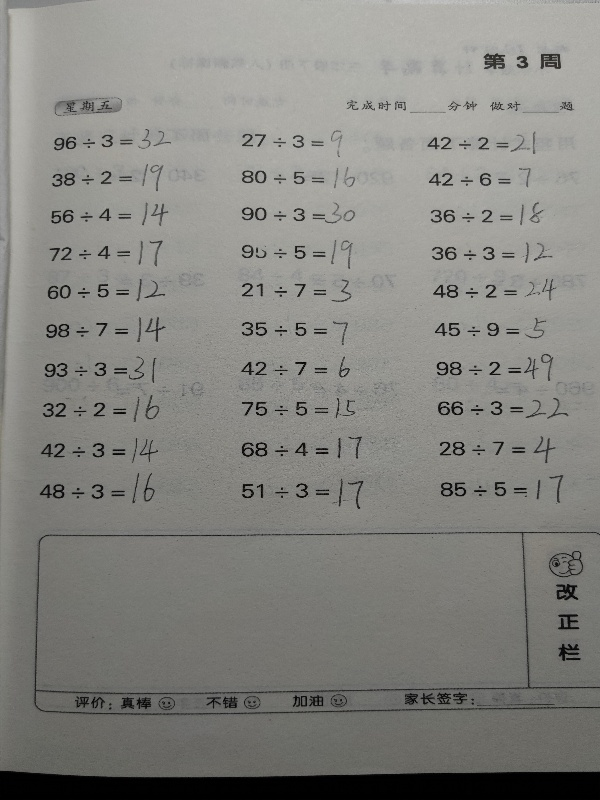equation: (439, 471, 570, 510), (435, 432, 566, 468), (238, 470, 365, 507), (239, 313, 358, 352), (38, 472, 161, 509), (433, 350, 557, 385), (238, 236, 362, 270), (39, 433, 163, 466), (235, 276, 358, 309), (43, 314, 169, 346), (46, 237, 166, 270), (430, 275, 559, 305), (434, 394, 572, 422), (238, 433, 366, 463), (50, 197, 173, 228), (42, 352, 164, 383), (44, 275, 169, 305), (50, 162, 170, 193), (239, 122, 347, 156), (40, 395, 166, 424), (426, 129, 543, 159), (432, 314, 551, 343), (237, 198, 357, 226), (427, 163, 539, 193), (50, 125, 173, 152), (239, 395, 360, 422), (239, 163, 360, 190), (240, 357, 355, 384), (427, 202, 547, 227), (428, 242, 555, 265)
